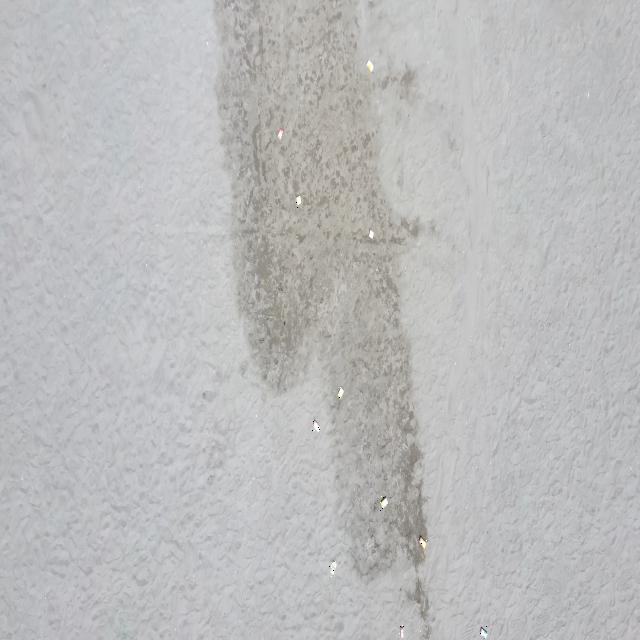Garbage: (417, 535, 427, 548), (380, 497, 387, 510), (312, 419, 319, 431), (276, 128, 283, 139), (329, 561, 335, 573), (336, 387, 343, 397), (480, 626, 487, 636), (367, 228, 373, 239), (367, 60, 372, 71), (296, 196, 300, 206), (400, 624, 403, 637)
